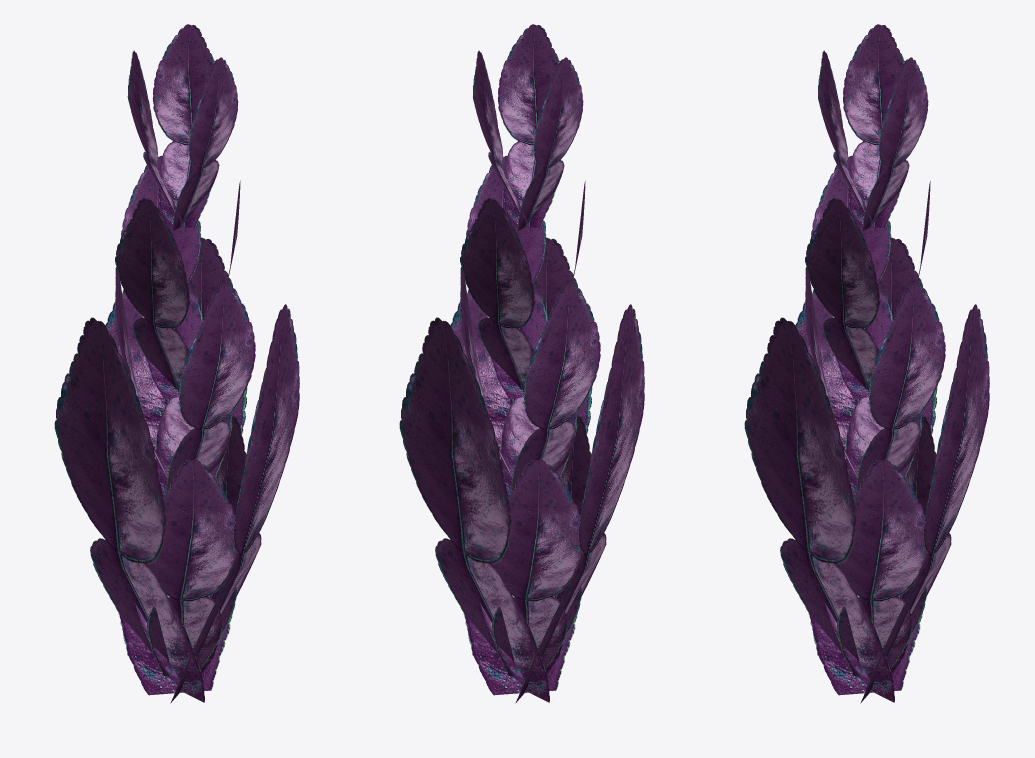
The model's file is violet1.FBX.
3 renders of one model, left to right at view 1: azimuth 30°, elevation 25°; view 2: azimuth 150°, elevation 25°; view 3: azimuth 270°, elevation 25°, orthographic.
Parts seen in each view (by area): view 1: Plane074; view 2: Plane074; view 3: Plane074.
Part boxes in pixels (<box>): Plane074: <box>54,24,299,703</box>; Plane074: <box>399,24,644,703</box>; Plane074: <box>744,24,989,703</box>.
Bounding box in the file's own units: 98.27 × 232 × 102.
